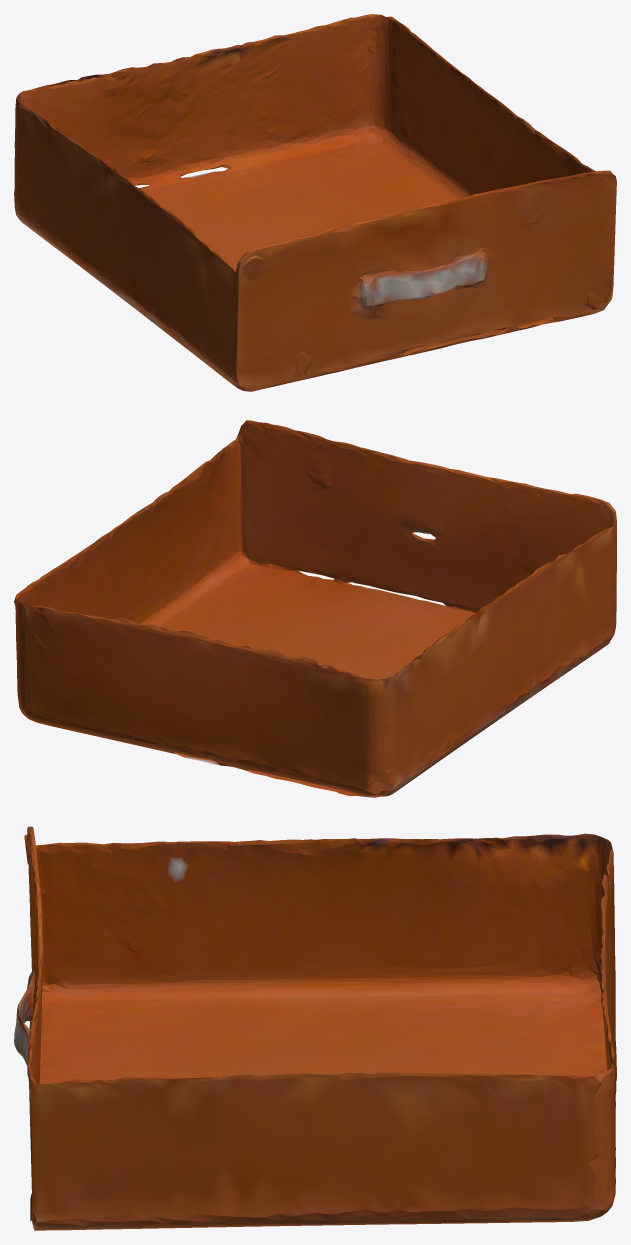
Rendered from scan.obj.
3 views of the same model, one above another, from view 1: azimuth 30°, elevation 25°; view 2: azimuth 150°, elevation 25°; view 3: azimuth 270°, elevation 25° (orthographic). The views are drawn at different scales.
Parts seen in each view (by area): view 1: scan.ply; view 2: scan.ply; view 3: scan.ply.
Part boxes in pixels (x1,y1,x2,y2): scan.ply: (14,14,616,391); scan.ply: (14,420,616,797); scan.ply: (14,826,616,1230).
Bounding box in the file's own units: 0.1942 × 0.073 × 0.2115.
